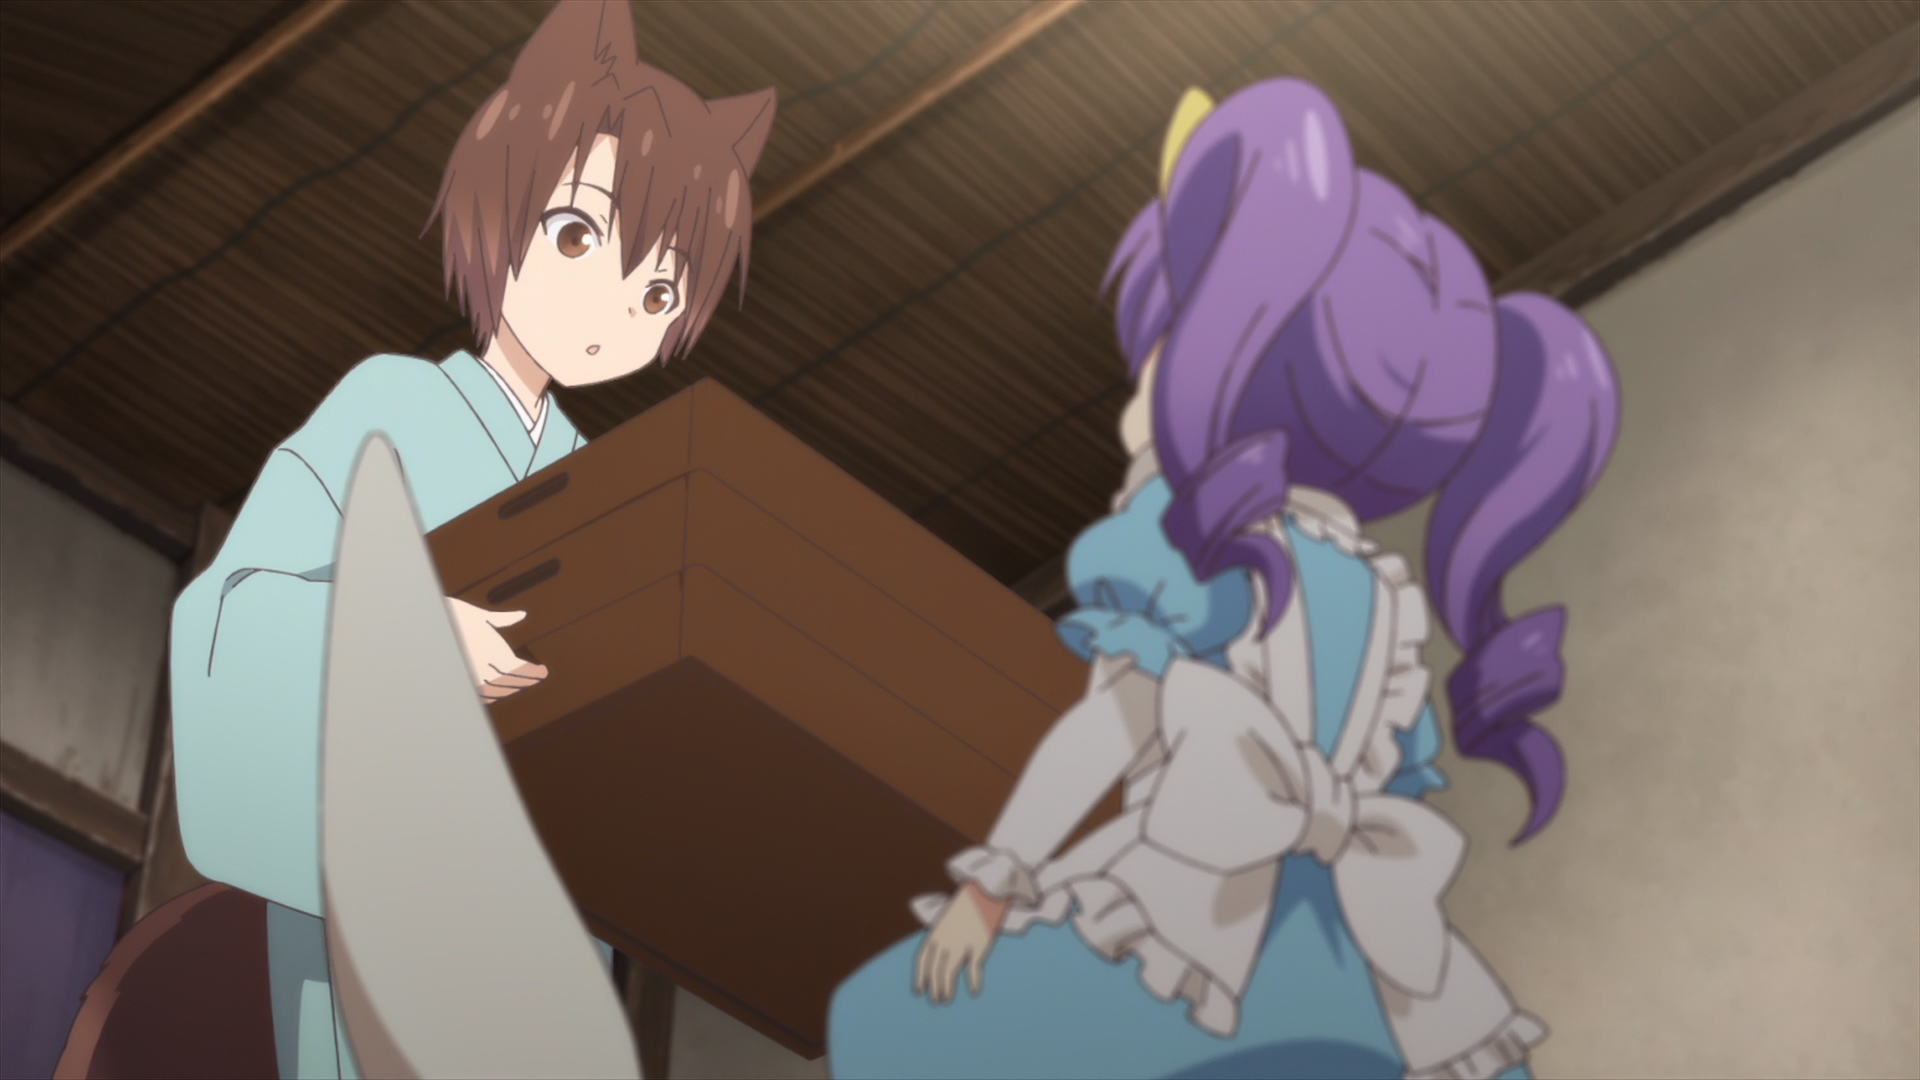枣: (57, 1, 775, 1080)
阿菊: (825, 79, 1619, 1080)
